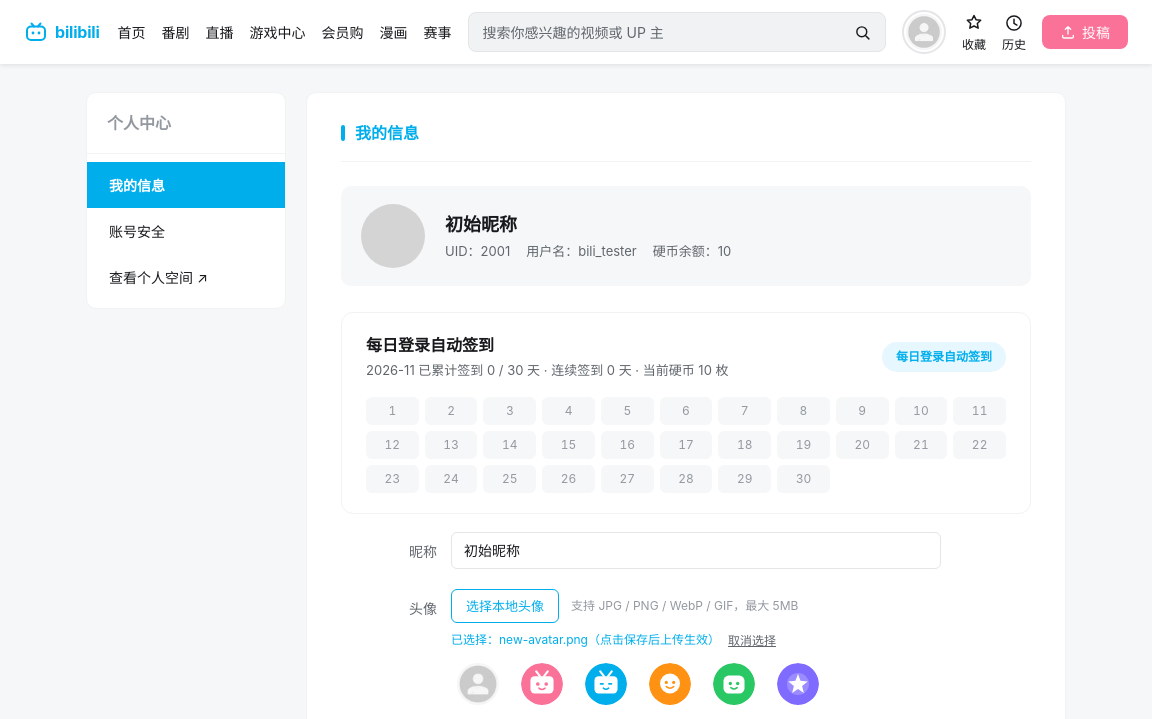
Test: AccountPage 头像选择预览与点击保存后预签名直传 MinIO › 选择本地头像仅展示本地预览，点击保存后申请预签名直传 MinIO 并保存资料
This screenshot has width=1152, height=719.
Earlier steps of the test are not shown.
Expected: the text "2026-11 已累计签到 0 / 30 天 · 连续签到 0 天 · 当前硬币 10 枚" is shown, [366, 361, 728, 380]
Expected: the text "已选择：new-avatar.png（点击保存后上传生效）" is shown, [451, 630, 720, 648]
Replace the text in the field labelled "昵称" with "保存后的昵称". click: [696, 550]
box: [451, 532, 941, 568]
(page scrolled)
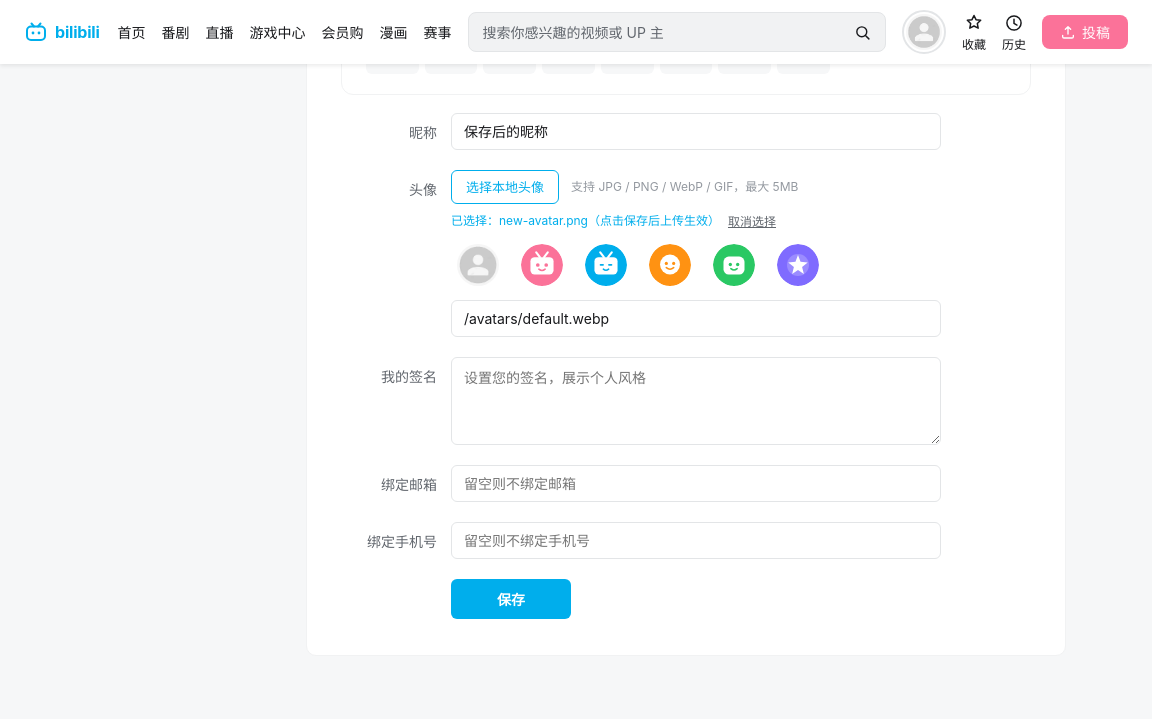
Click the button "保存". click: [511, 598]
box: [451, 578, 571, 618]
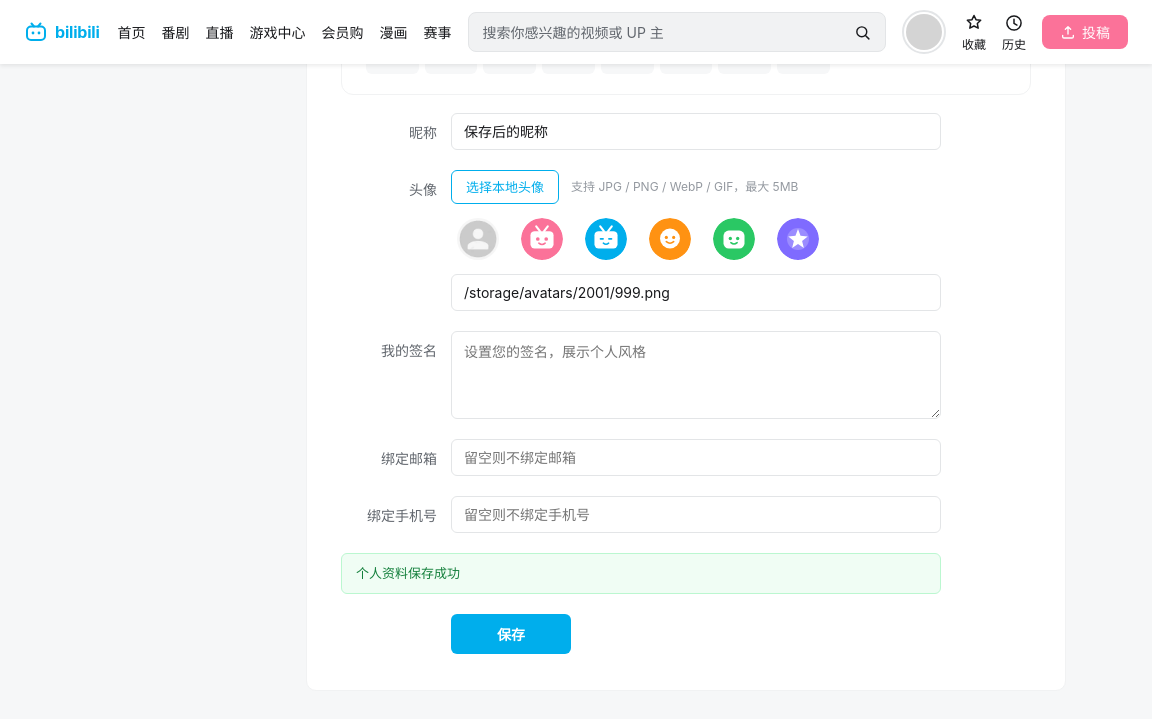
Expected: the text "个人资料保存成功" is shown, [341, 552, 941, 594]
